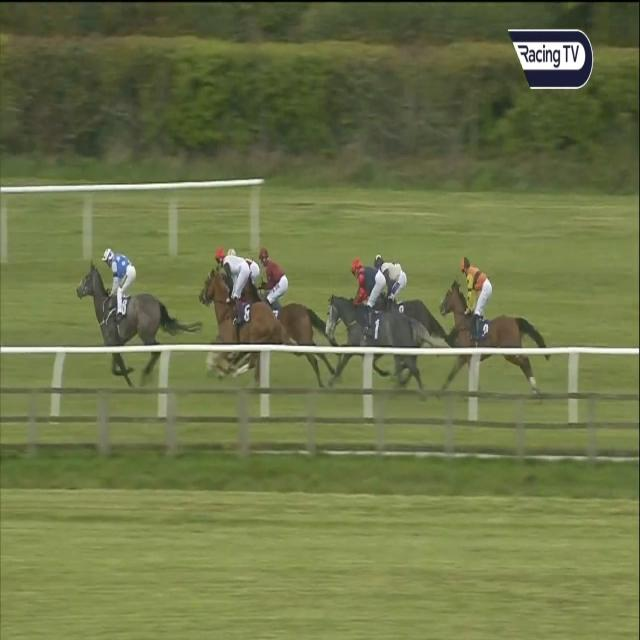horses-racing: (439, 257, 551, 400), (327, 259, 421, 402), (75, 244, 173, 380), (199, 244, 279, 380), (255, 243, 315, 334), (375, 255, 427, 319), (227, 243, 264, 291)
